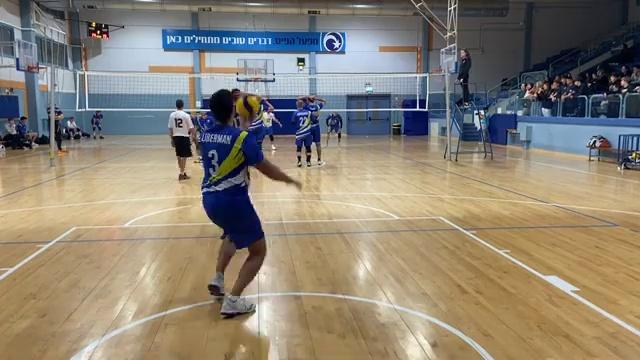ball: (231, 85, 274, 128)
